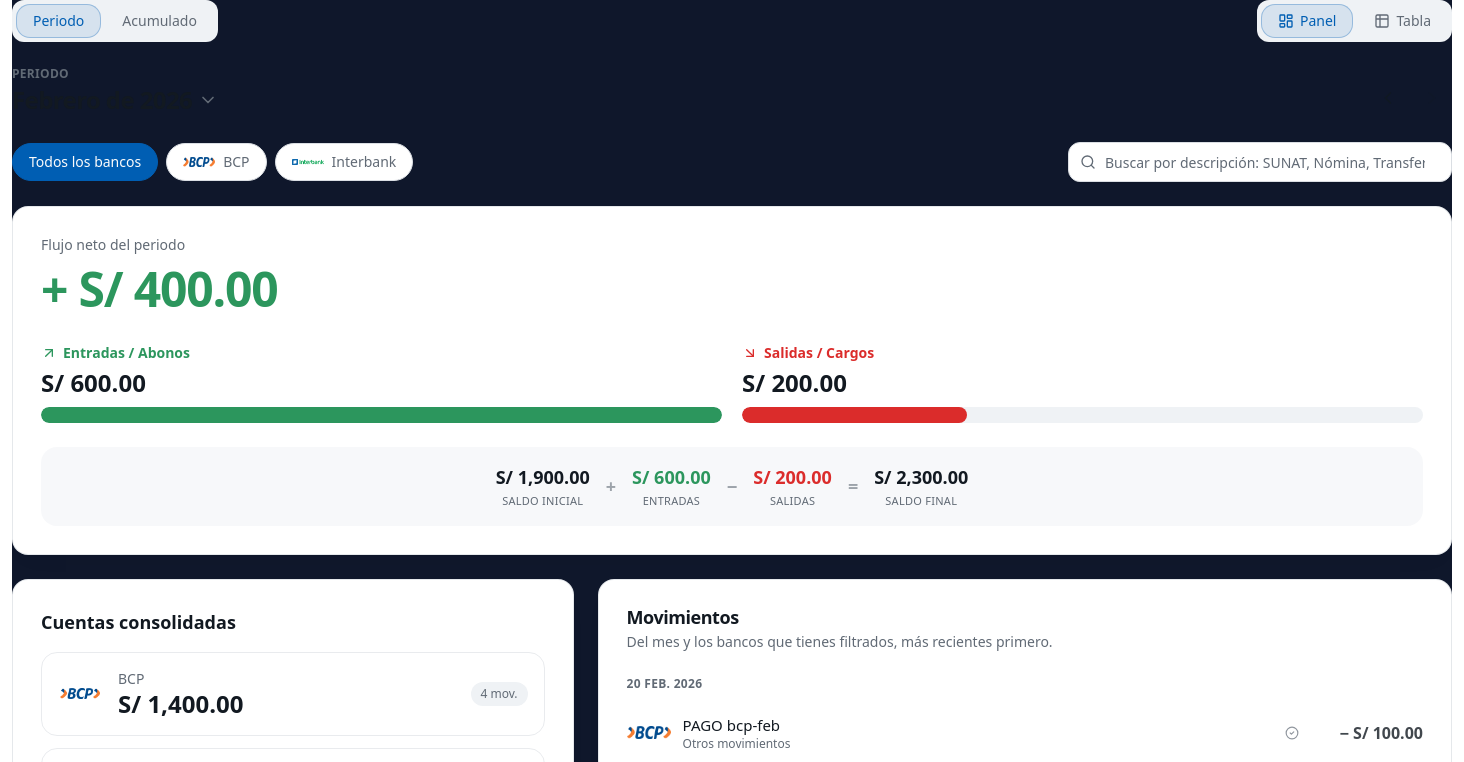
Test: FinancialCenter: visualización y alcance › Panel acumulado: entradas y salidas acumuladas; saldo por cuenta de punta a punta
The width and height of the screenshot is (1464, 762).
Click the button "Acumulado". click: point(160, 21)
box: [105,4,214,38]
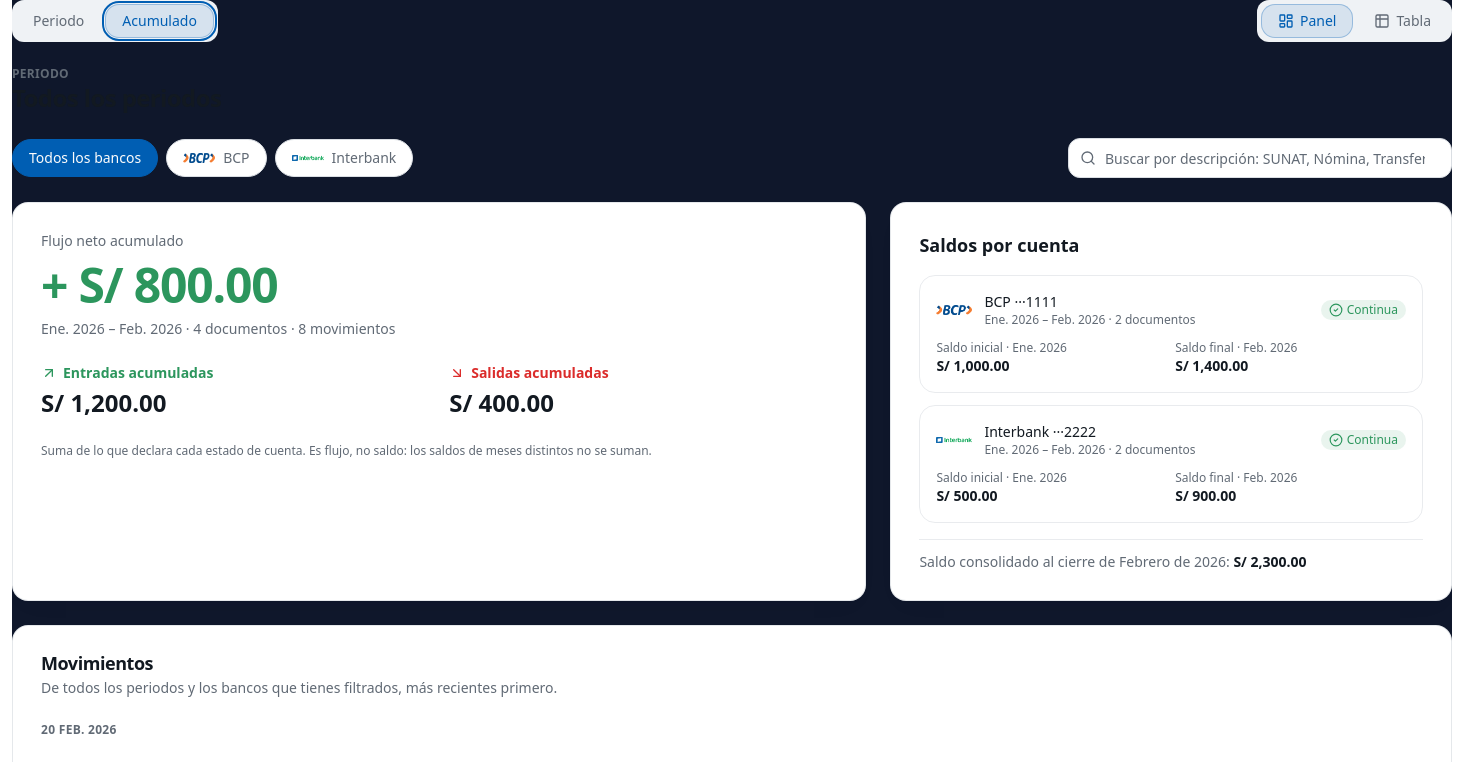
expect the text "S/ 1,200.00" is shown: met, box [41,386,166,419]
expect the text "BCP ···1111" is shown: met, box [984,292,1058,311]
expect the text "Interbank ···2222" is shown: met, box [984,422,1096,441]
